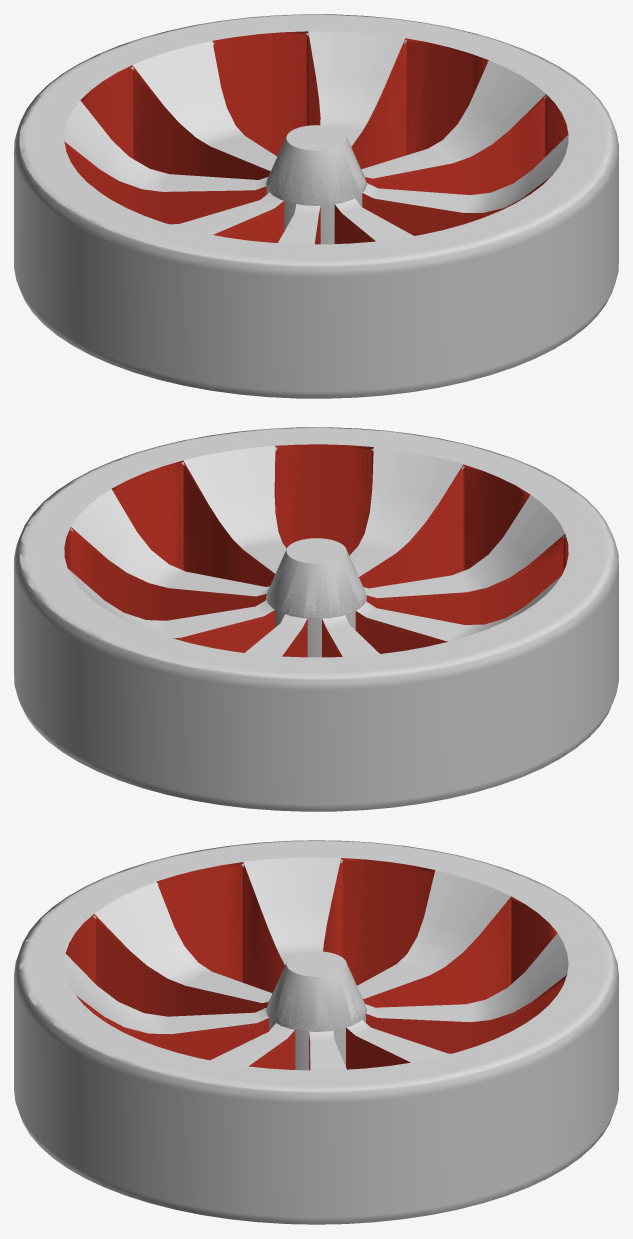
Rendered from rim_1.fbx.
3 views of the same model, one above another, from view 1: azimuth 30°, elevation 25°; view 2: azimuth 150°, elevation 25°; view 3: azimuth 270°, elevation 25° (orthographic).
Parts seen in each view (by area): view 1: rim_1_LOD0, rim_1_col; view 2: rim_1_LOD0, rim_1_col; view 3: rim_1_LOD0, rim_1_col.
Boxes of the visible parts, <box> form: rim_1_LOD0: <box>14,14,618,396</box>; rim_1_col: <box>14,14,616,398</box>; rim_1_LOD0: <box>14,427,618,809</box>; rim_1_col: <box>16,427,616,811</box>; rim_1_LOD0: <box>14,840,618,1222</box>; rim_1_col: <box>14,840,618,1224</box>.
Size of what is drawn, in the model's own units: 48 by 12.02 by 48.
